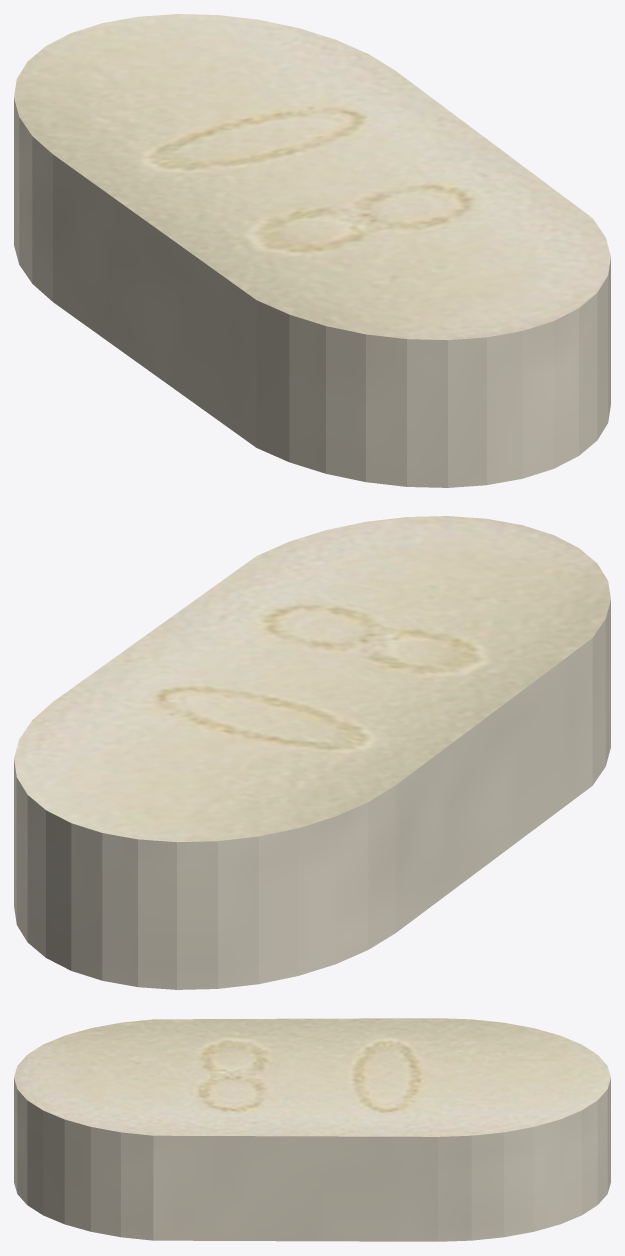
3 views of the same model, one above another, from view 1: azimuth 30°, elevation 25°; view 2: azimuth 150°, elevation 25°; view 3: azimuth 270°, elevation 25° (orthographic). The views are drawn at different scales.
Parts seen in each view (by area): view 1: 圓柱體; view 2: 圓柱體; view 3: 圓柱體.
Part boxes in pixels (<box>): 圓柱體: <box>14,14,610,487</box>; 圓柱體: <box>14,516,610,989</box>; 圓柱體: <box>14,1018,610,1241</box>.
Bounding box in the file's own units: 1.7 × 0.7007 × 3.61.
Materials: 1 (1 with a texture image).
